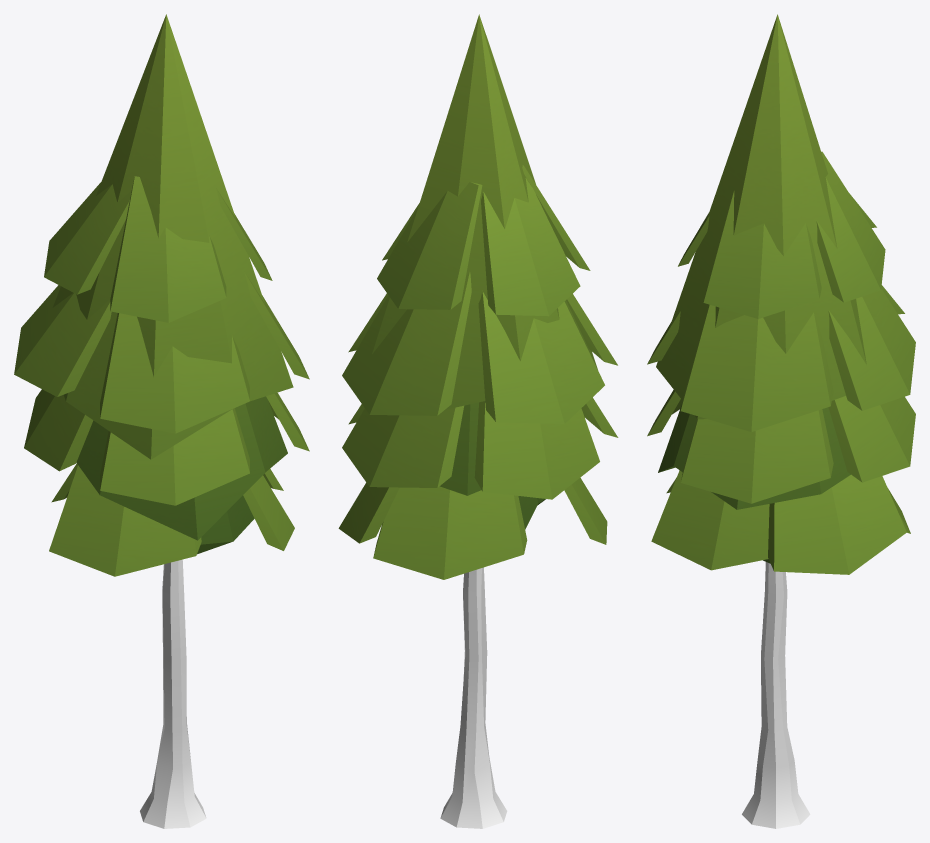
File: arbol1Pino.fbx
3 renders of one model, left to right at view 1: azimuth 30°, elevation 25°; view 2: azimuth 150°, elevation 25°; view 3: azimuth 270°, elevation 25°, orthographic.
Parts seen in each view (by area): view 1: arbol1Pino; view 2: arbol1Pino; view 3: arbol1Pino.
Boxes of the visible parts, x1,y1,x2,y2 form: arbol1Pino: [14, 14, 309, 828]; arbol1Pino: [338, 14, 618, 828]; arbol1Pino: [647, 14, 915, 828].
Bounding box in the file's own units: 622 × 1968 × 602.
